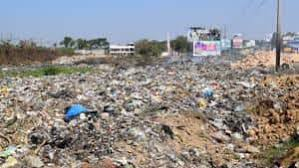garbage: (2, 77, 266, 168), (103, 66, 269, 168)
